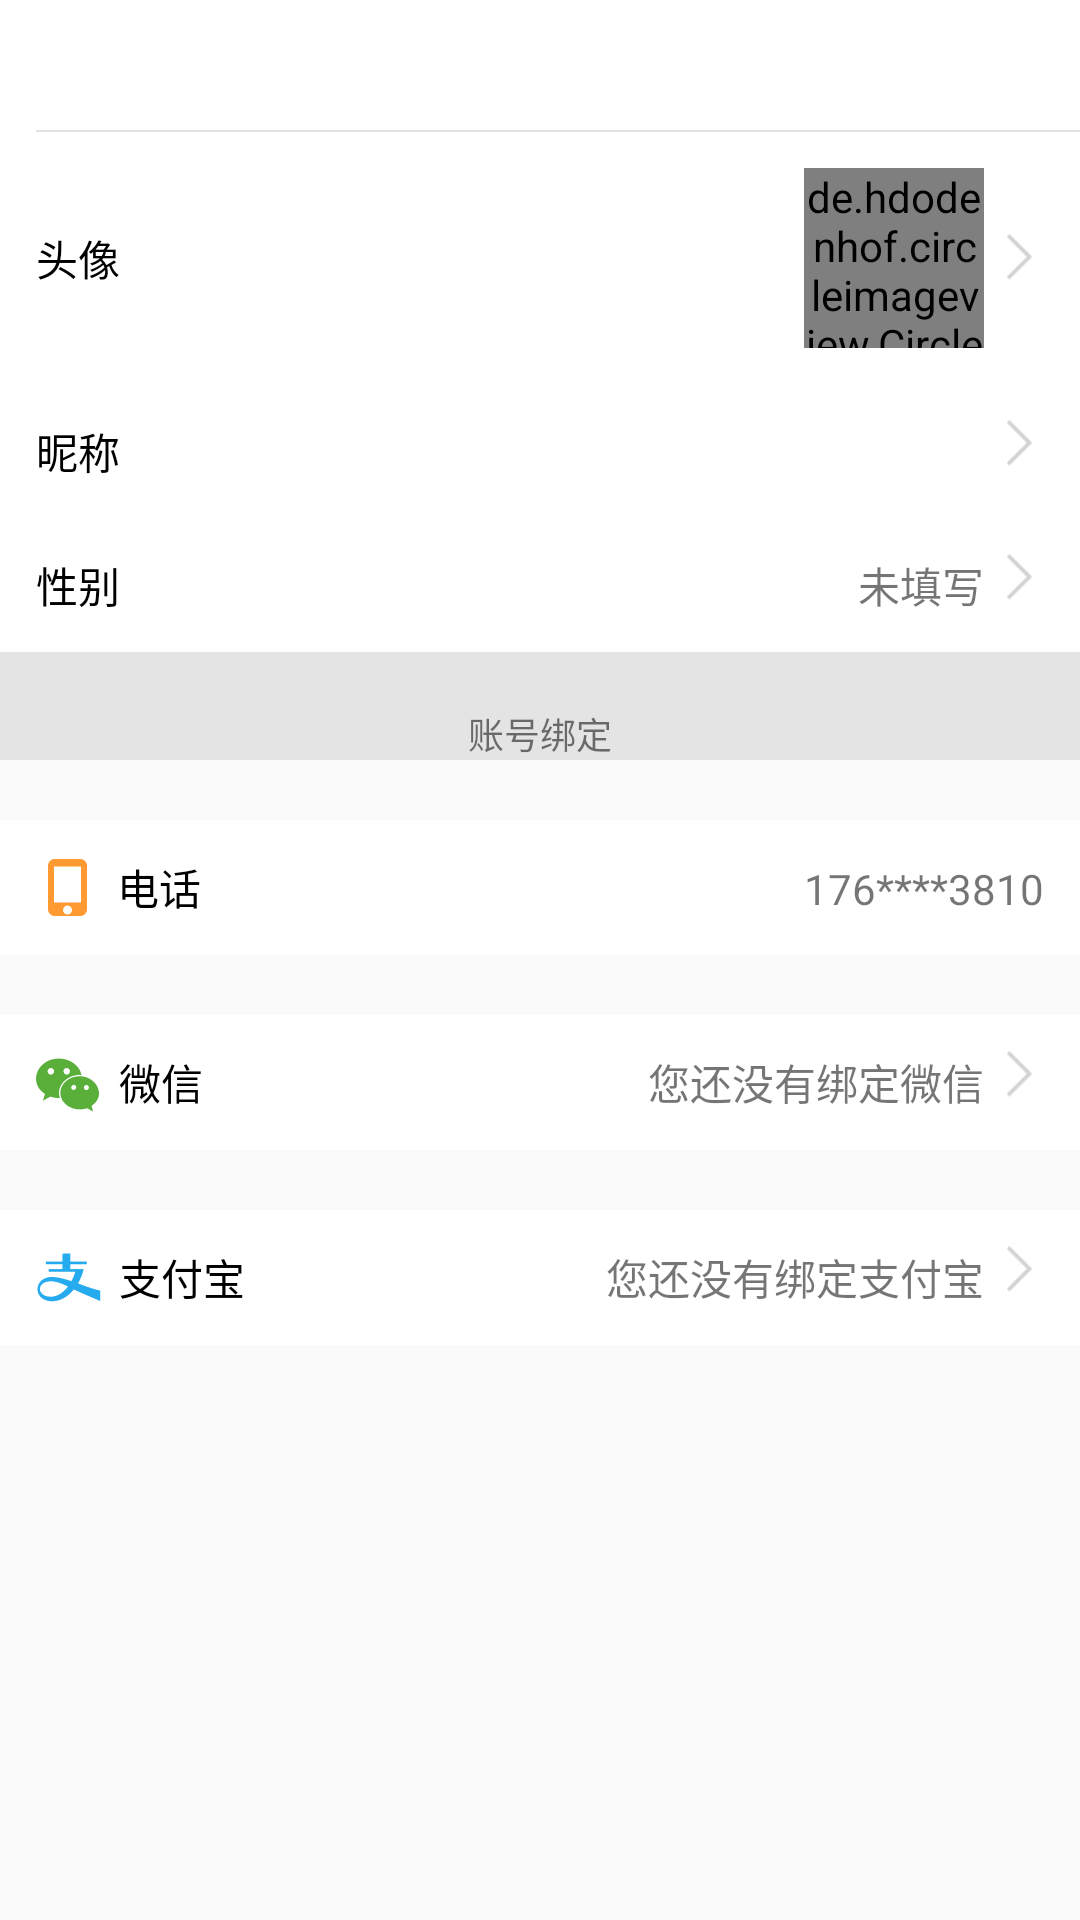

Point at icon controls on the screen. Image size 1080×1920, points as [x,y].
arrow right: [1019,257], [1019,443], [1019,577], [1019,1074], [1019,1269]
